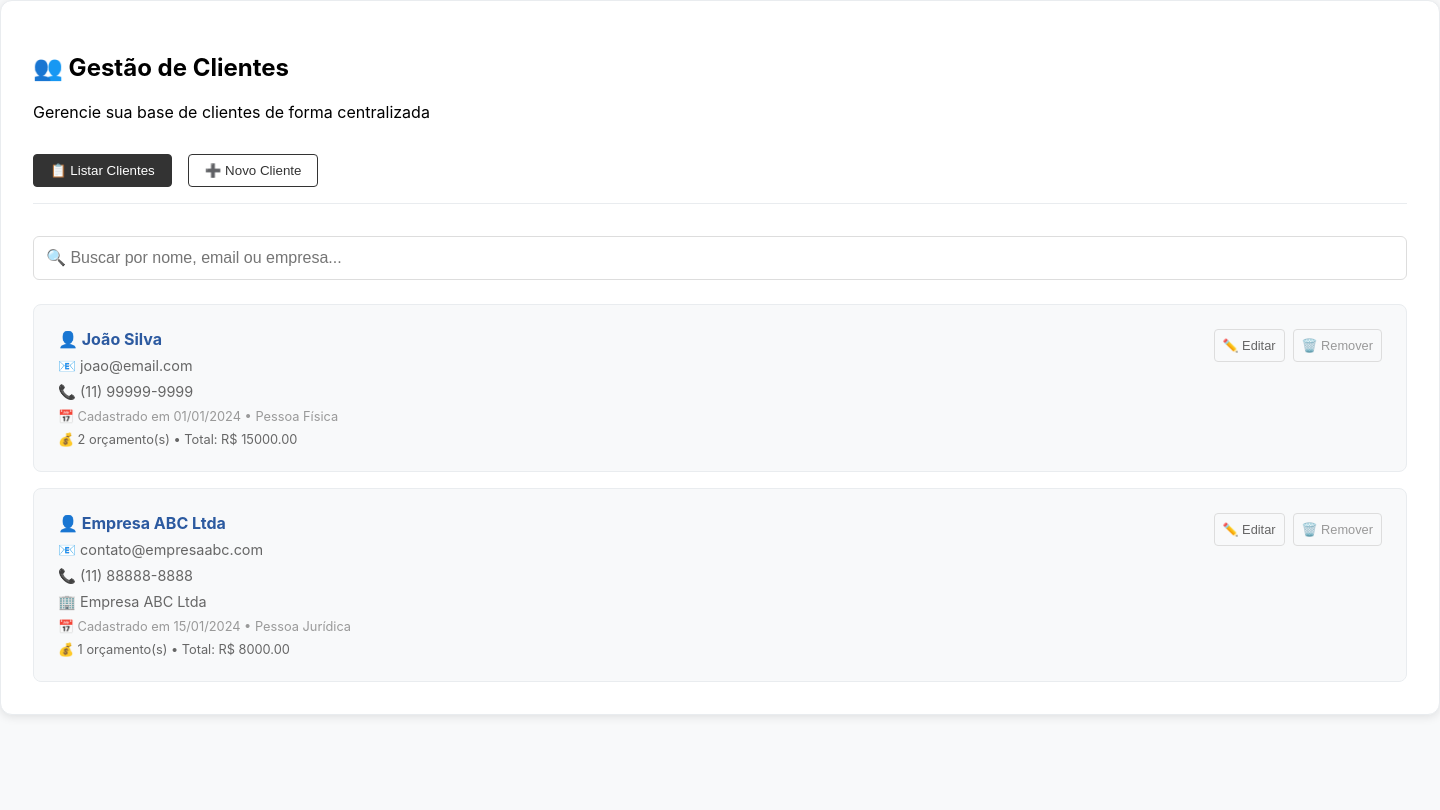
Test: ClientManager › Formulário de edição › deve mudar título para "Editar Cliente" no modo de edição
Click the button "✏️ Editar" in the row of "joao@email.com": (1249, 345) [1214,329,1285,362]
(page scrolled)
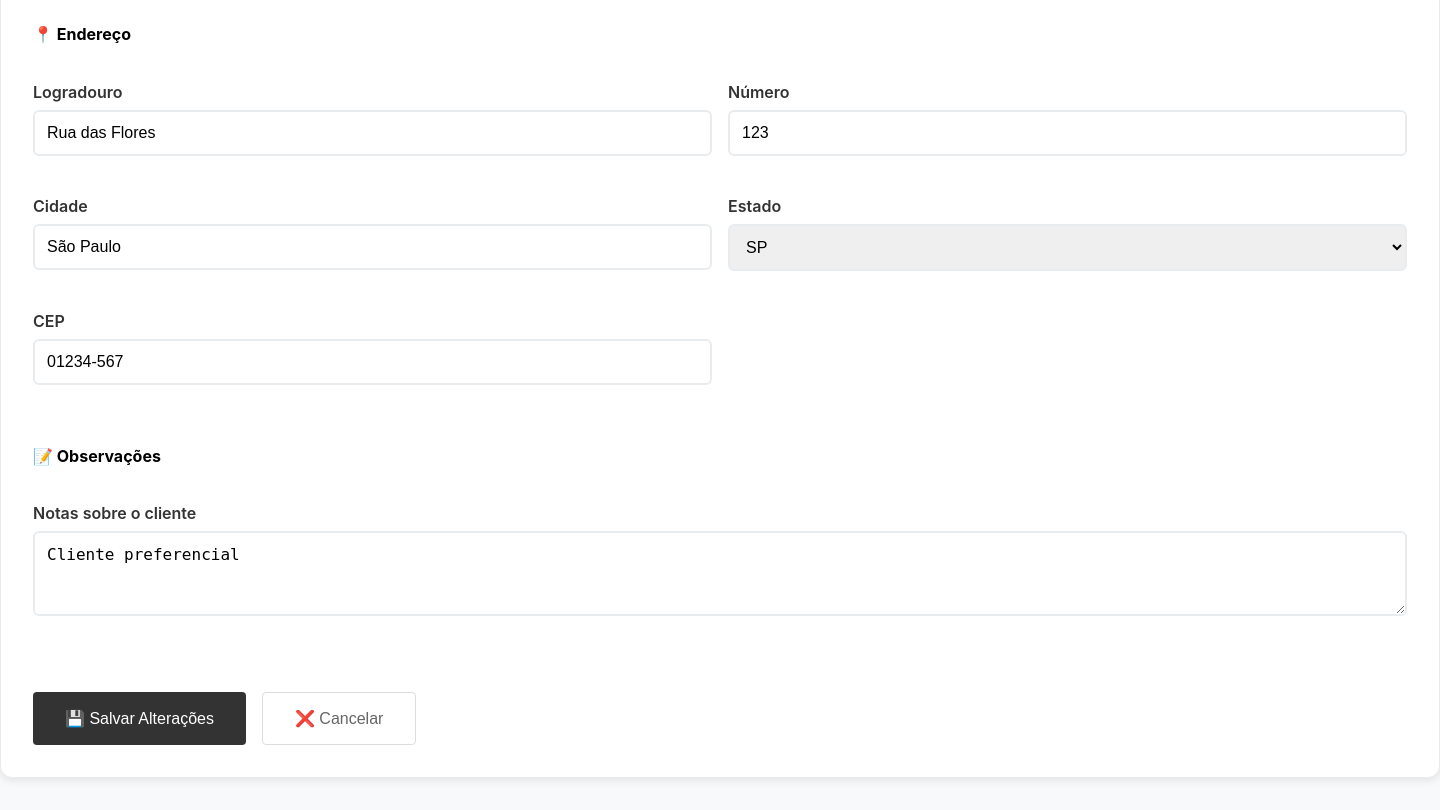
Expected: the button "💾 Salvar Alterações" is shown, [33,692,246,745]
